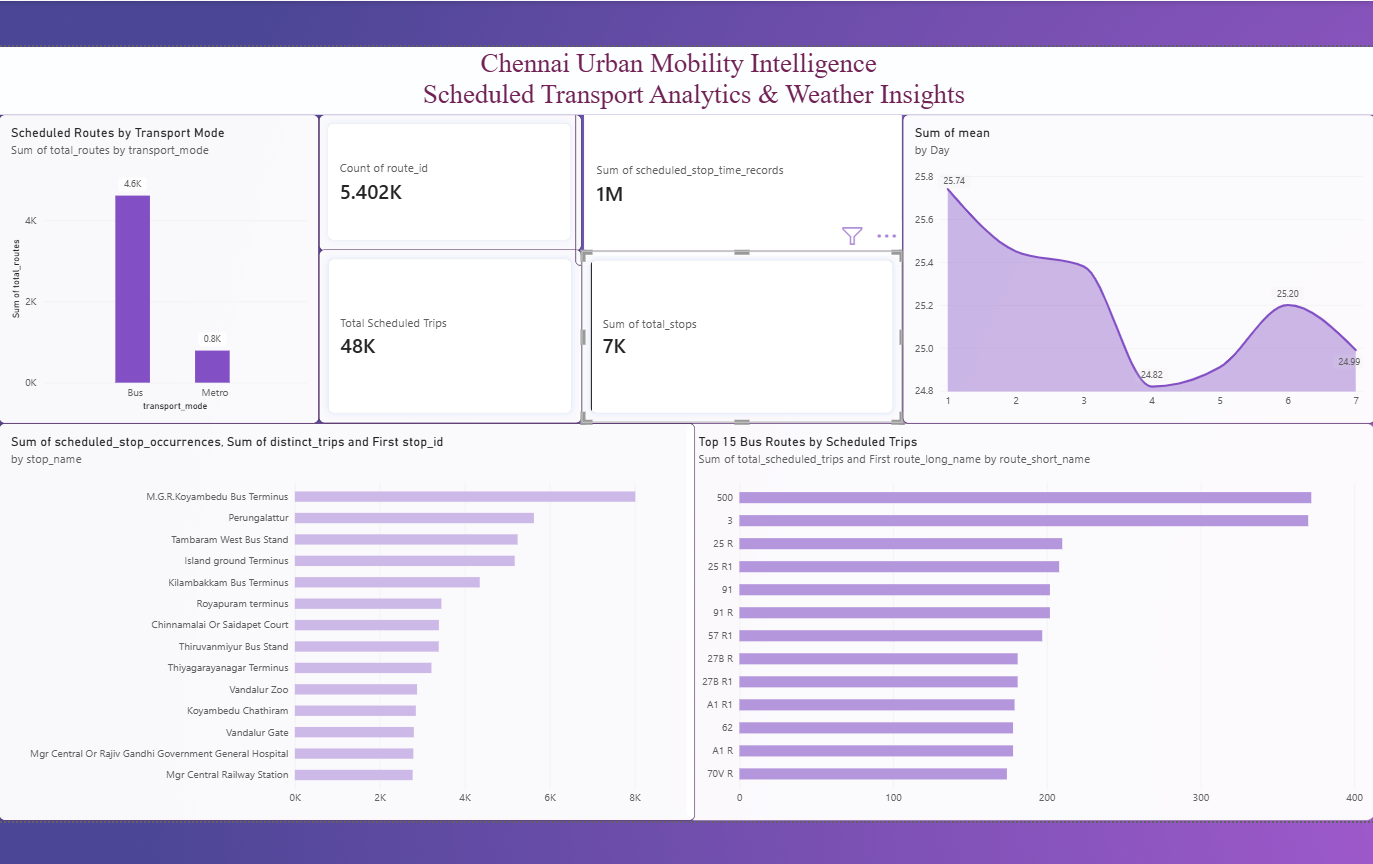

What the dashboard file says about the page in this screenshot:
{"tool":"powerbi","page":{"name":"Page 1","canvas":[1920,1080],"ordinal":0},"visuals":[{"type":"lineClusteredColumnComboChart","title":"Scheduled Routes by Transport Mode","fields":{"Category":["transport_mode_summary.transport_mode"],"Y":["Sum(transport_mode_summary.total_routes)"]},"box":[0,0,446.5,450],"z":0},{"type":"clusteredBarChart","title":"Top 15 Bus Routes by Scheduled Trips","fields":{"Category":["top_bus_routes.route_short_name"],"Y":["Sum(top_bus_routes.total_scheduled_trips)"]},"box":[870.4,512.8,797.1,566.9],"z":1},{"type":"clusteredBarChart","fields":{"Category":["top_stops.stop_name"],"Y":["Sum(top_stops.scheduled_stop_occurrences)"]},"box":[0,512.8,870.4,554.7],"z":2},{"type":"cardVisual","fields":{"Data":["Count(route_summary.route_id)"]},"box":[446.5,0,366.3,207.6],"z":3},{"type":"cardVisual","fields":{"Data":["Sum(route_summary.total_scheduled_trips)"]},"box":[446.5,207.6,366.3,242.4],"z":4},{"type":"cardVisual","title":"Scheduled Stop-Time Records","fields":{"Data":["Sum(route_summary.scheduled_stop_time_records)"]},"box":[812.8,0,448.3,225],"z":5},{"type":"cardVisual","fields":{"Data":["Sum(mobility_totals.total_stops)"]},"box":[812.8,207.6,448.3,242.4],"z":6}]}

Visuals, with their boxes on the page's 1920x1080 design canvas (x1, y1, x2, y2). These are canvas units, not pixel positions in the 1373x864 screenshot, which may show the page scaled, cropped or inside an application window:
"Scheduled Routes by Transport Mode" lineClusteredColumnComboChart: (0, 0, 446, 450)
"Top 15 Bus Routes by Scheduled Trips" clusteredBarChart: (870, 513, 1668, 1080)
clusteredBarChart - top_stops.stop_name x Sum(top_stops.scheduled_stop_occurrences): (0, 513, 870, 1068)
cardVisual - Count(route_summary.route_id): (446, 0, 813, 208)
cardVisual - Sum(route_summary.total_scheduled_trips): (446, 208, 813, 450)
"Scheduled Stop-Time Records" cardVisual: (813, 0, 1261, 225)
cardVisual - Sum(mobility_totals.total_stops): (813, 208, 1261, 450)
